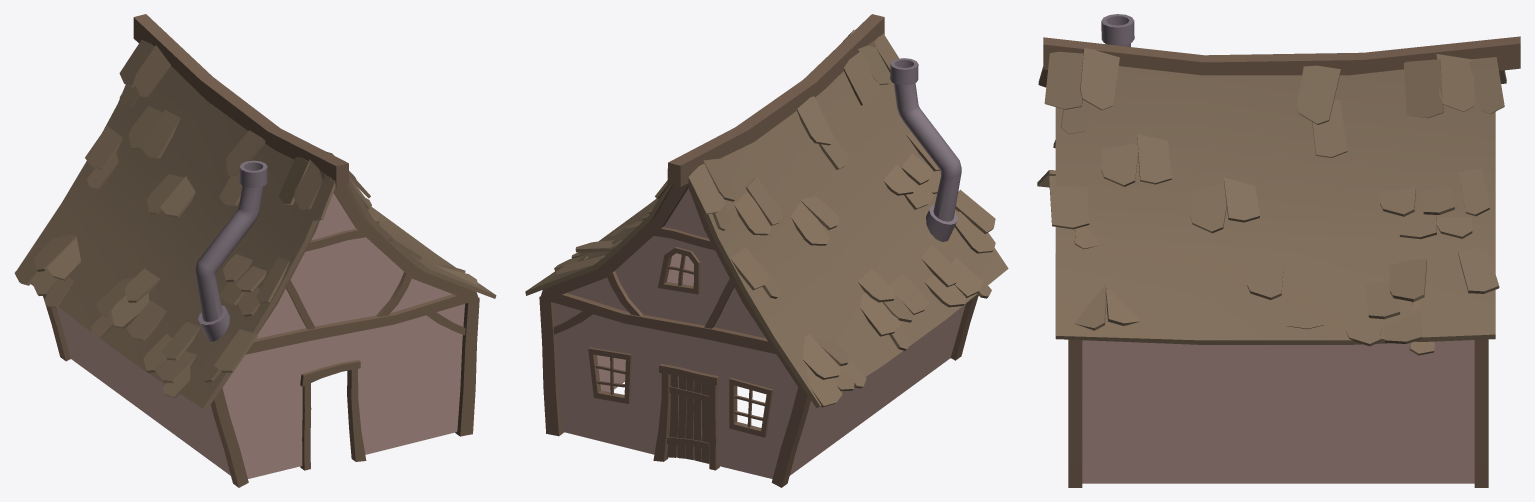
The model's file is MobyInsideTown_House2.fbx.
The picture shows the model from 3 angles, left to right: view 1: azimuth 30°, elevation 25°; view 2: azimuth 150°, elevation 25°; view 3: azimuth 270°, elevation 25°; orthographic projection. The views are drawn at different scales.
Visible parts, largest first — view 1: Cube.026; view 2: Cube.026; view 3: Cube.026.
Boxes of the visible parts, left/top/right/bottom form: Cube.026: left=14, top=14, right=496, bottom=487; Cube.026: left=525, top=14, right=1008, bottom=487; Cube.026: left=1037, top=14, right=1520, bottom=487.
Size of the model in its own units: 694 by 671 by 796.
